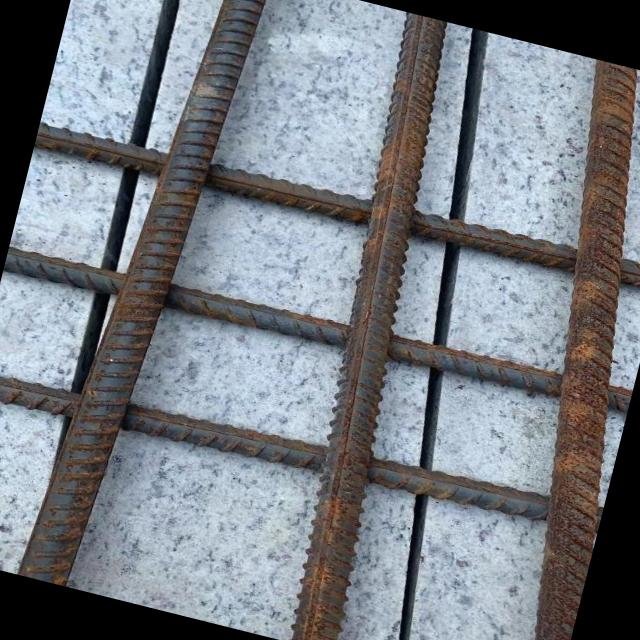ribbed bar: (16, 0, 281, 600), (250, 11, 496, 640), (0, 350, 604, 551), (4, 236, 632, 427), (438, 58, 640, 640), (34, 112, 640, 303)
